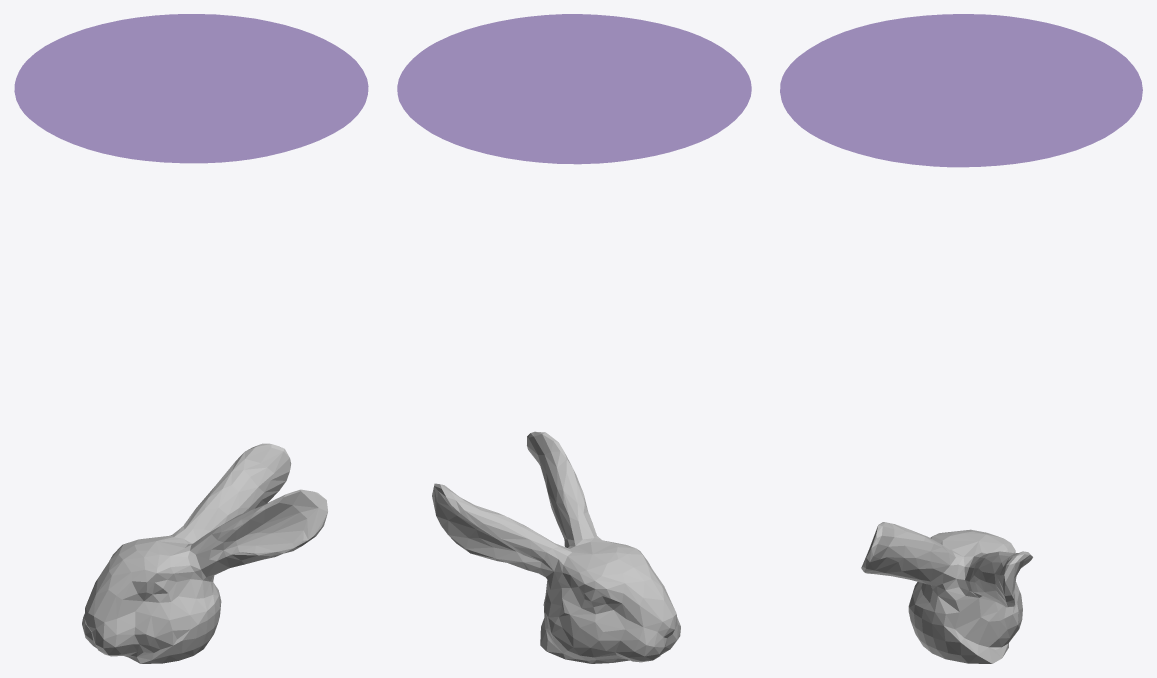
Rendered from init.glb.
3 renders of one model, left to right at view 1: azimuth 30°, elevation 25°; view 2: azimuth 150°, elevation 25°; view 3: azimuth 270°, elevation 25°, orthographic. The views are drawn at different scales.
Visible parts, largest first — view 1: world, object.obj; view 2: world, object.obj; view 3: world, object.obj.
Part boxes in pixels (box(x1,y1,x2,y2)): world: box(14, 14, 368, 163); object.obj: box(82, 443, 327, 663); world: box(397, 14, 751, 164); object.obj: box(432, 431, 680, 663); world: box(780, 14, 1142, 167); object.obj: box(861, 522, 1032, 663).
Size of the model in its own units: 0.5829 by 0.9995 by 0.5829.
